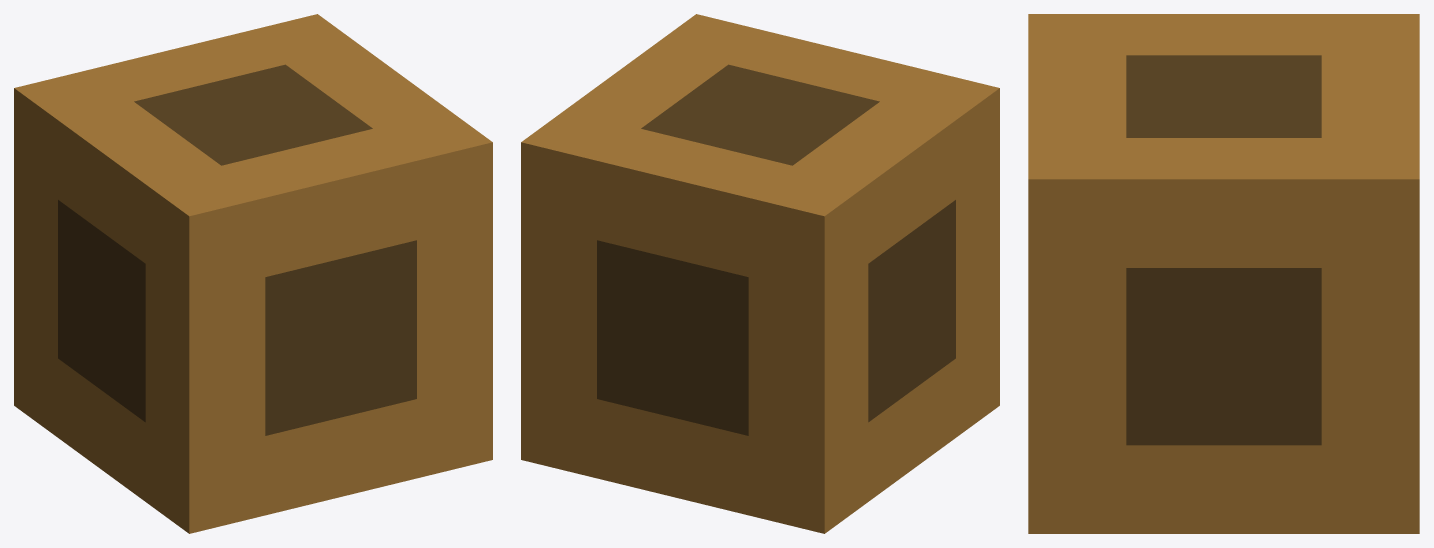
Rendered from medium_crate.glb.
The picture shows the model from 3 angles, left to right: view 1: azimuth 30°, elevation 25°; view 2: azimuth 150°, elevation 25°; view 3: azimuth 270°, elevation 25°; orthographic projection. The views are drawn at different scales.
Parts seen in each view (by area): view 1: pl0; view 2: pl0; view 3: pl0.
Part boxes in pixels (x1,y1,x2,y2): pl0: (14,14,492,533); pl0: (521,14,999,533); pl0: (1028,14,1419,533).
Size of the model in its own units: 0.4 by 0.4 by 0.4.
Materials: 1 (1 with a texture image).
